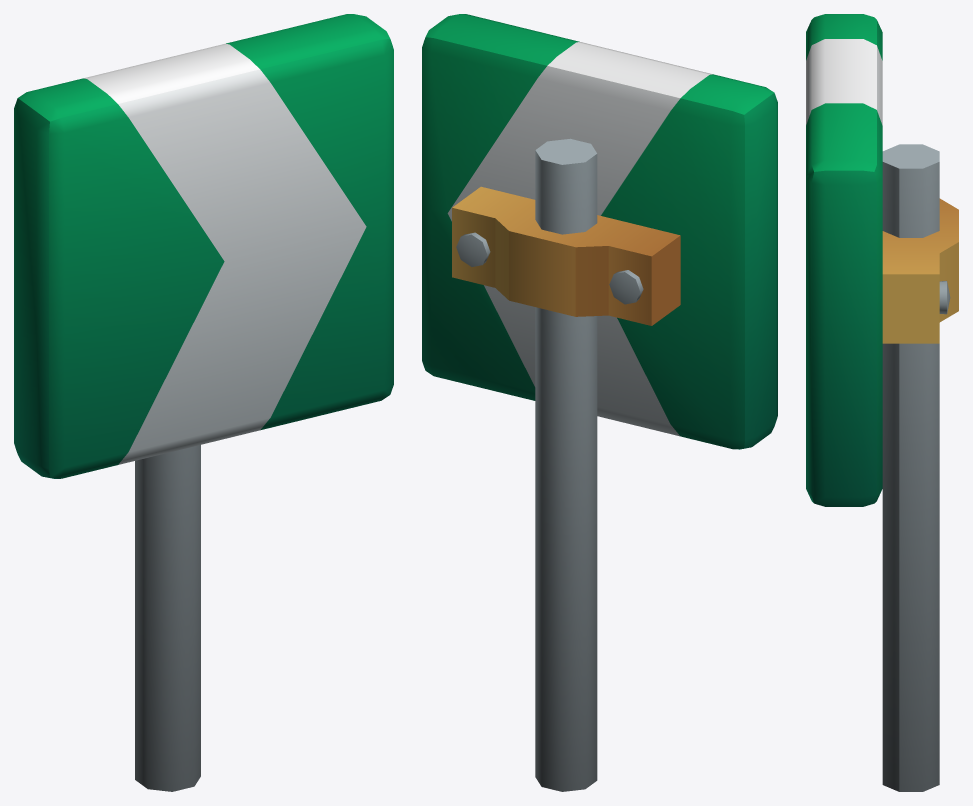
File: kaykit_signage_arrow_stand_green.glb
3 views of the same model, side by side, from view 1: azimuth 30°, elevation 25°; view 2: azimuth 150°, elevation 25°; view 3: azimuth 270°, elevation 25° (orthographic). The views are drawn at different scales.
Parts seen in each view (by area): view 1: signage_arrow_stand_green_visual; view 2: signage_arrow_stand_green_visual; view 3: signage_arrow_stand_green_visual.
Boxes of the visible parts, x1,y1,x2,y2 form: signage_arrow_stand_green_visual: [14, 14, 393, 791]; signage_arrow_stand_green_visual: [422, 14, 777, 791]; signage_arrow_stand_green_visual: [806, 14, 958, 791].
Size of what is drawn, in the model's own units: 1 by 2 by 0.4.
1 material, 1 textured.
